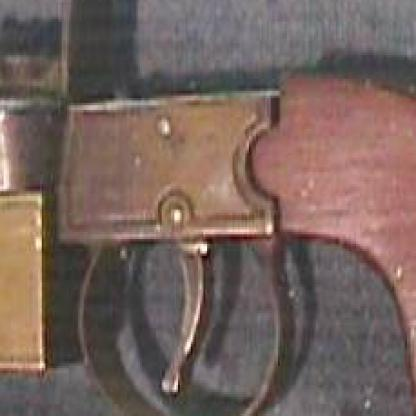gun: (0, 52, 414, 414)
